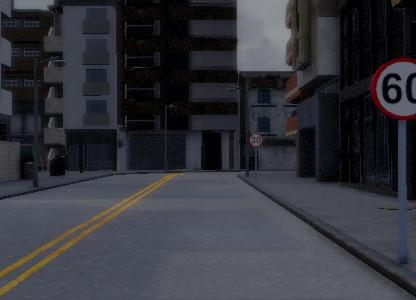Speed_60: (362, 53, 416, 124)
